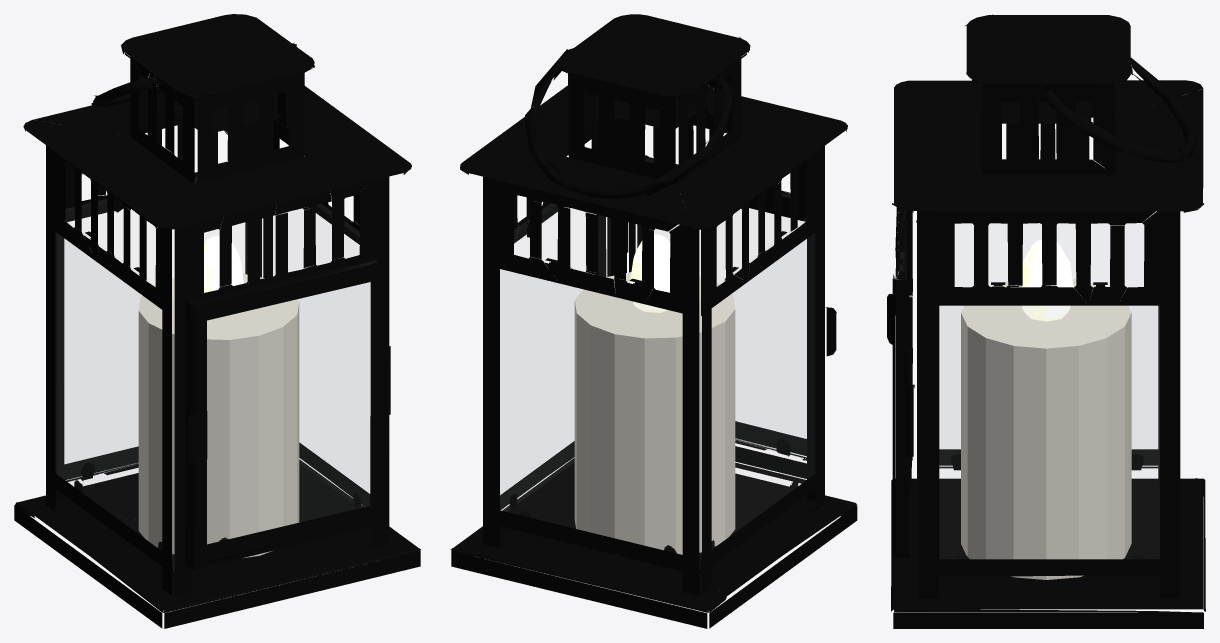
The picture shows the model from 3 angles, left to right: view 1: azimuth 30°, elevation 25°; view 2: azimuth 150°, elevation 25°; view 3: azimuth 270°, elevation 25°; orthographic projection. The views are drawn at different scales.
Parts seen in each view (by area): view 1: borrby-20, candle, flame; view 2: borrby-20, candle, flame; view 3: borrby-20, candle, flame.
Part boxes in pixels (<box>): borrby-20: <box>14,14,420,628</box>; candle: <box>138,273,299,558</box>; flame: <box>204,235,243,292</box>; borrby-20: <box>450,14,857,628</box>; candle: <box>574,272,735,554</box>; flame: <box>630,234,670,312</box>; borrby-20: <box>887,14,1205,628</box>; candle: <box>961,279,1131,579</box>; flame: <box>1019,239,1073,321</box>.
Bounding box in the file's own units: 0.1107 × 0.1993 × 0.1125.
4 materials, 1 textured.
